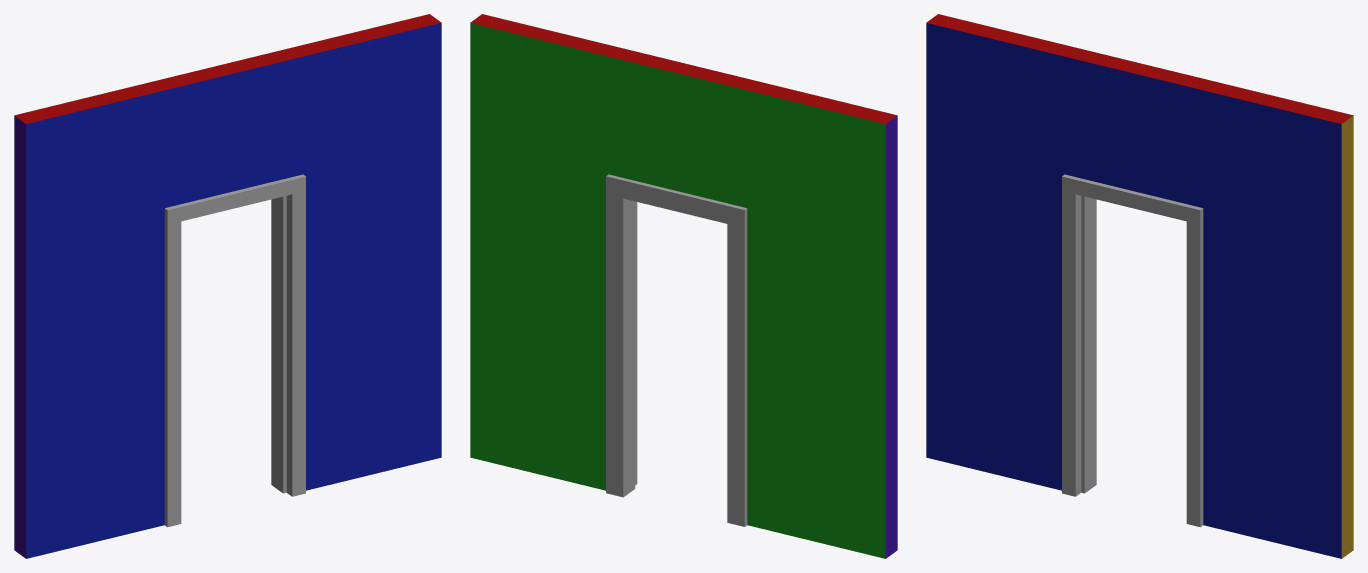
Rendered from Wall_Door_01b.fbx.
3 renders of one model, left to right at view 1: azimuth 30°, elevation 25°; view 2: azimuth 150°, elevation 25°; view 3: azimuth 330°, elevation 25°, orthographic.
Parts seen in each view (by area): view 1: Wall_Door_01b; view 2: Wall_Door_01b; view 3: Wall_Door_01b.
Boxes of the visible parts, x1,y1,x2,y2 form: Wall_Door_01b: (14,14,441,558); Wall_Door_01b: (470,14,897,558); Wall_Door_01b: (926,14,1353,558).
Bounding box in the file's own units: 3 × 0.2177 × 3.
